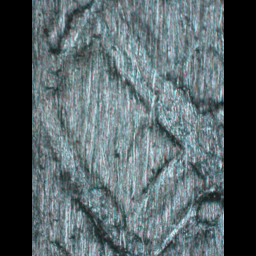d: (49, 2, 221, 255)
